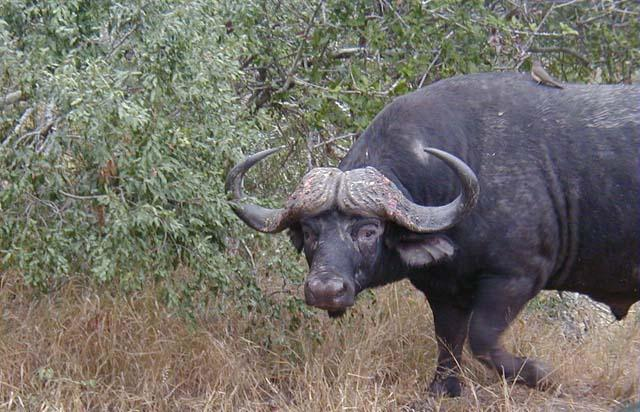Buffalo: (251, 55, 640, 347)
